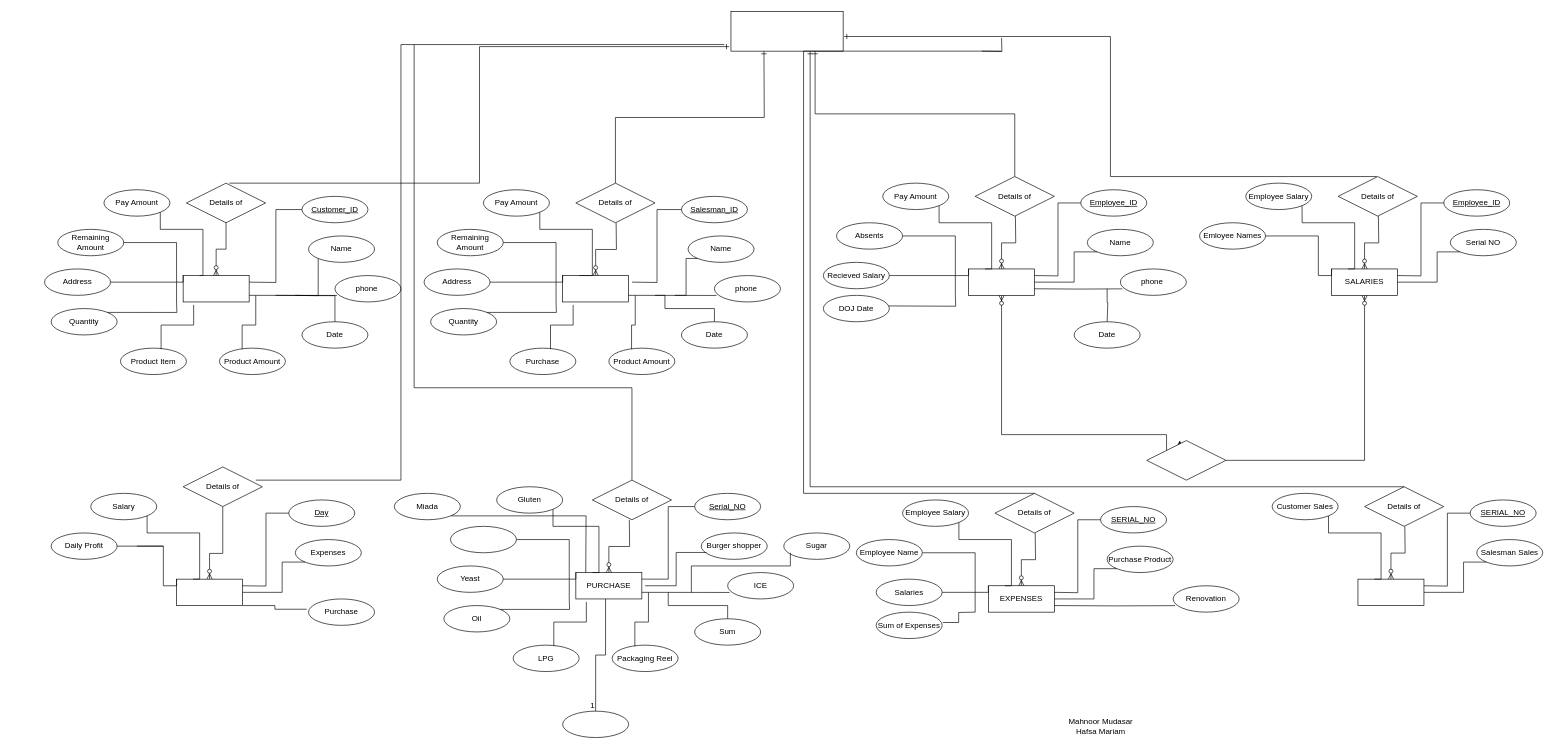
Some shapes in this 1560 by 751 pixel diagram are drawn without their labels. The shapes that lost their labels are listed below. From the top down, each one's box as (x1, y1, x2, y2) in pixels, then its label:
(730, 11, 843, 51): MENU
(182, 275, 249, 302): CUSTOMER ORDER
(562, 275, 629, 302): SALESMAN_ ORDER
(968, 268, 1035, 295): EMPLOYEE
(1146, 440, 1226, 480): OR
(450, 526, 516, 553): EKA
(176, 578, 243, 606): PROFIT
(1357, 578, 1424, 606): SALES
(562, 710, 629, 738): Salt
